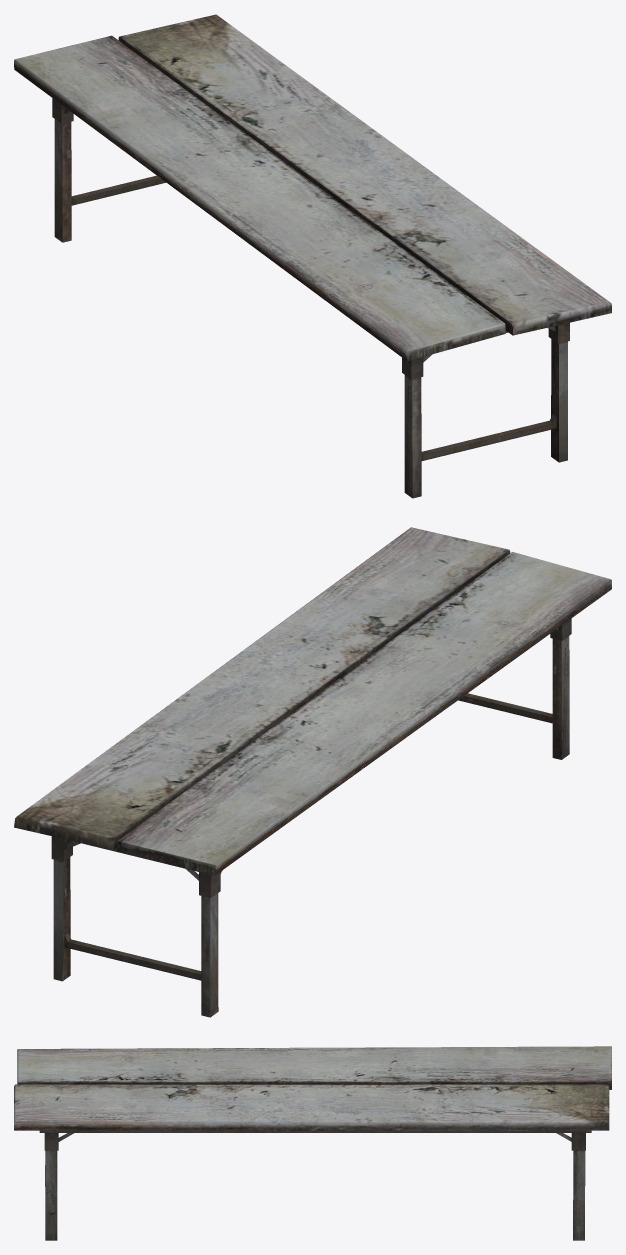
Rendered from cafeteria_table001a.glb.
3 renders of one model, top to bottom at view 1: azimuth 30°, elevation 25°; view 2: azimuth 150°, elevation 25°; view 3: azimuth 270°, elevation 25°, orthographic. The views are drawn at different scales.
Parts seen in each view (by area): view 1: cafeteria_table001a; view 2: cafeteria_table001a; view 3: cafeteria_table001a.
Boxes of the visible parts, x1=… form: cafeteria_table001a: x1=14, y1=14, x2=611, y2=498; cafeteria_table001a: x1=14, y1=527, x2=611, y2=1017; cafeteria_table001a: x1=14, y1=1046, x2=611, y2=1240.
Bounding box in the file's own units: 0.7242 × 0.5812 × 2.45.
1 material, 1 textured.
